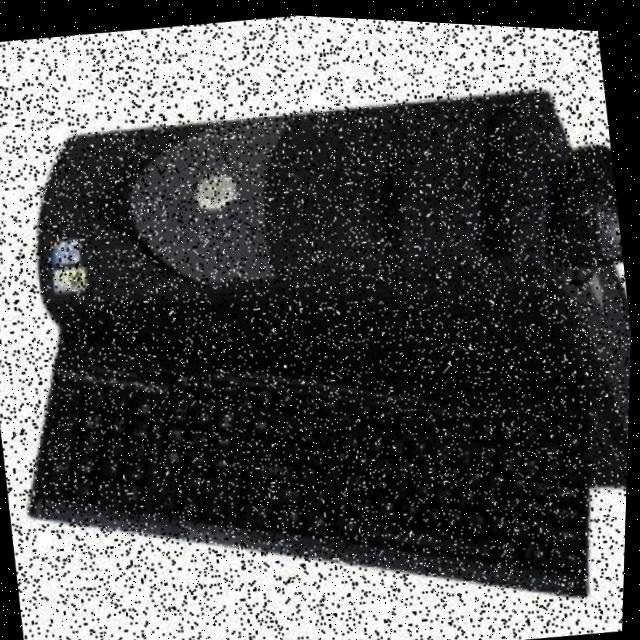mause: (525, 116, 630, 278)
